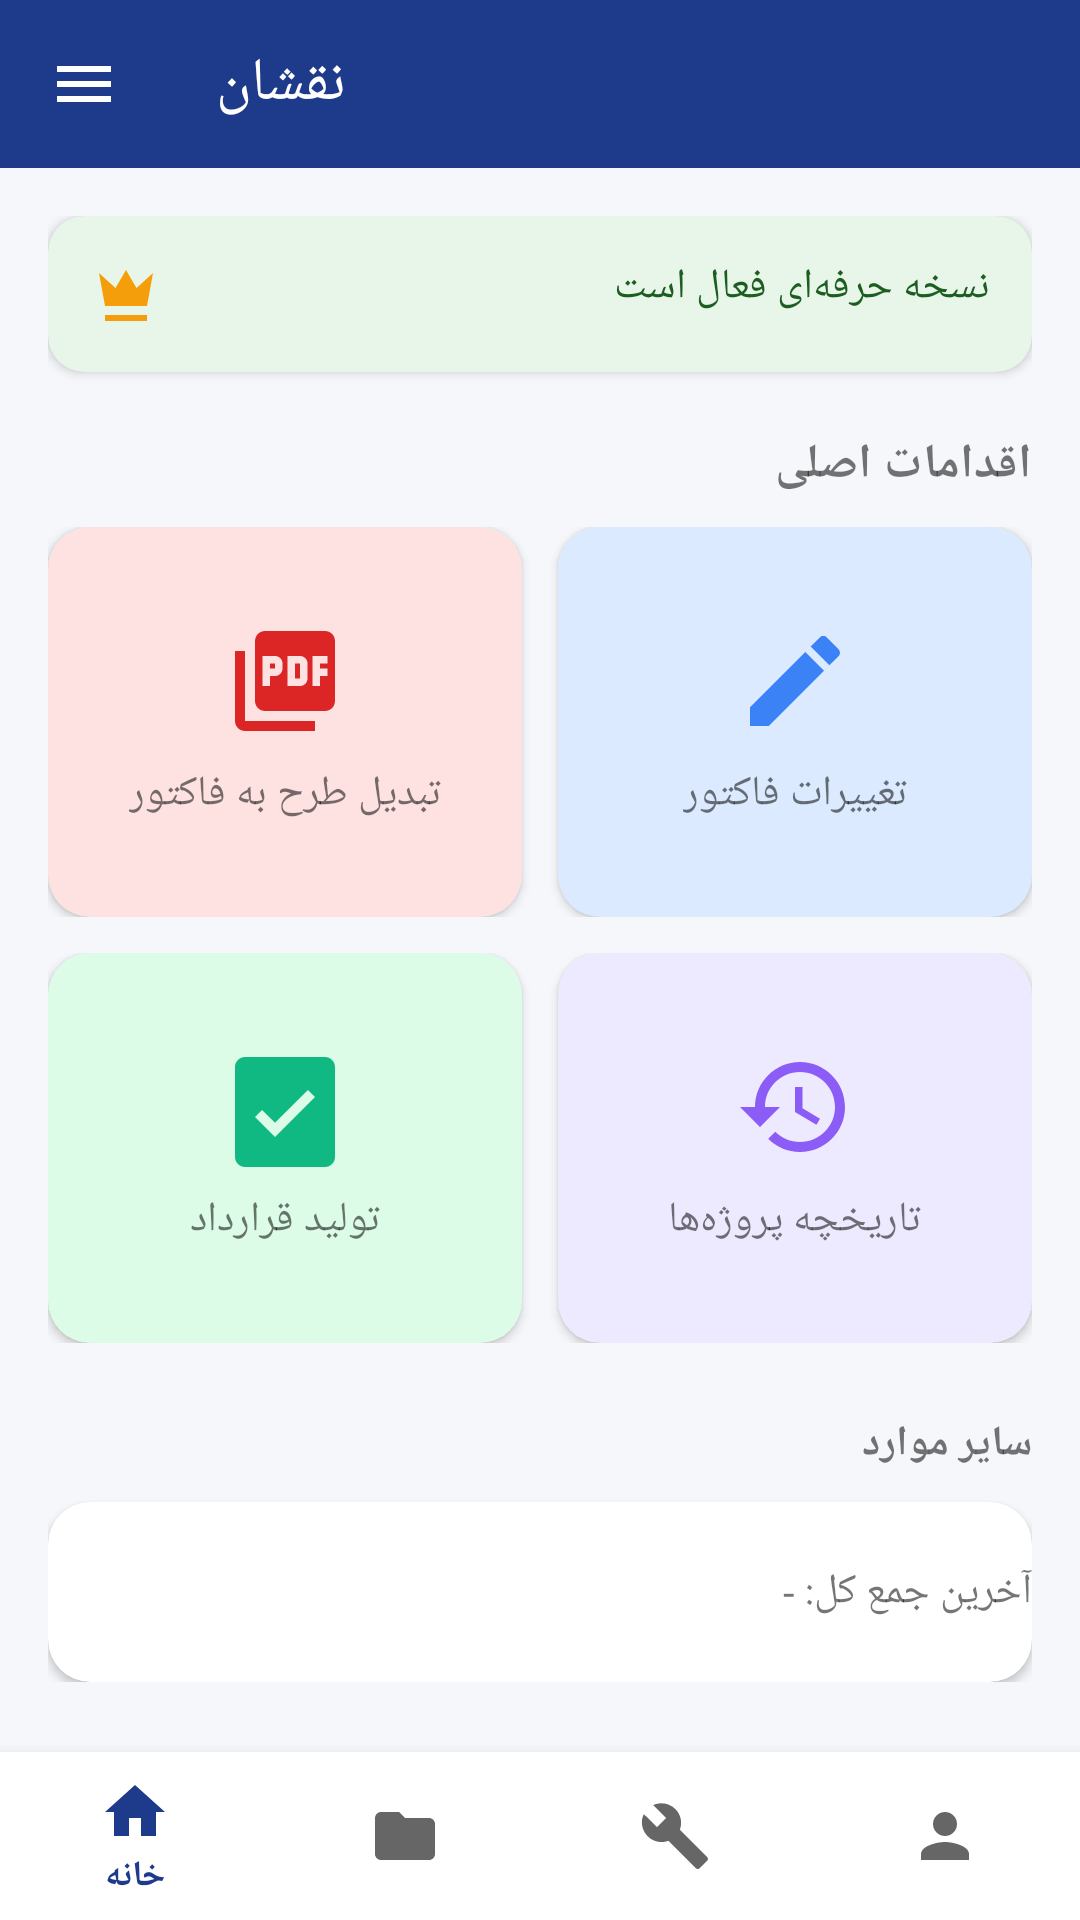

Named icons in this screenshot (1080px x 1920px) and their centers, point (x, y):
crown: point (126, 295)
edit: point (795, 681)
history: point (792, 1107)
